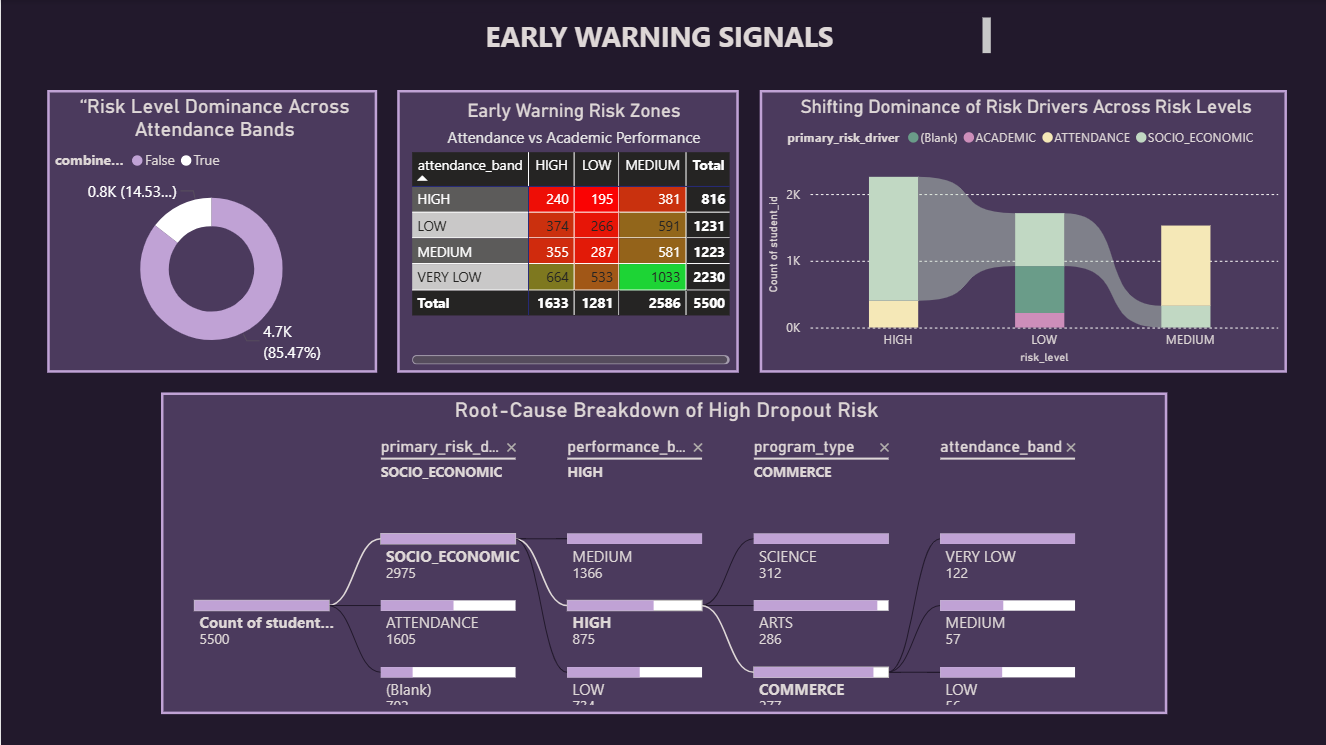

Layout of this report page (visuals, bound fields, positions):
{"tool":"powerbi","page":{"name":"Early warning signals","canvas":[1280,720],"ordinal":2},"visuals":[{"type":"donutChart","title":"“Risk Level Dominance Across Attendance Bands","fields":{"Y":["CountNonNull(gold_attendance_vs_performance.attendance_band)"],"Category":["gold_attendance_vs_performance.combined_risk_flag"]},"box":[44.6,86.9,318.5,272.7],"z":0},{"type":"pivotTable","title":"Early Warning Risk Zones","fields":{"Rows":["gold_attendance_vs_performance.attendance_band"],"Columns":["gold_attendance_vs_performance.performance_band"],"Values":["CountNonNull(gold_attendance_vs_performance.student_id)"]},"box":[382.4,86.9,329.4,272.7],"z":1000},{"type":"ribbonChart","title":"Shifting Dominance of Risk Drivers Across Risk Levels","fields":{"Category":["gold_student_risk_profile.risk_level"],"Series":["gold_student_risk_profile.primary_risk_driver"],"Y":["CountNonNull(gold_student_risk_profile.student_id)"]},"box":[732.3,86.9,509.1,272.7],"z":2000},{"type":"decompositionTreeVisual","title":"Root-Cause Breakdown of High Dropout Risk","fields":{"Analyze":["CountNonNull(gold_student_risk_profile.student_id)"],"ExplainBy":["gold_student_risk_profile.primary_risk_driver","gold_attendance_vs_performance.performance_band","gold_attendance_vs_performance.program_type","gold_attendance_vs_performance.attendance_band"]},"box":[154.4,378.8,971.2,310.1],"z":3000},{"type":"textbox","box":[318.5,12.1,641.8,44.6],"z":4000}]}

Visuals, with their boxes in screenshot pixels (x1, y1, x2, y2), scaled from the page's 1280x720 canvas onto the 1326x745 screenshot:
"“Risk Level Dominance Across Attendance Bands" donutChart: [left=46, top=90, right=376, bottom=372]
"Early Warning Risk Zones" pivotTable: [left=396, top=90, right=737, bottom=372]
"Shifting Dominance of Risk Drivers Across Risk Levels" ribbonChart: [left=759, top=90, right=1286, bottom=372]
"Root-Cause Breakdown of High Dropout Risk" decompositionTreeVisual: [left=160, top=392, right=1166, bottom=713]
textbox: [left=330, top=13, right=995, bottom=59]
